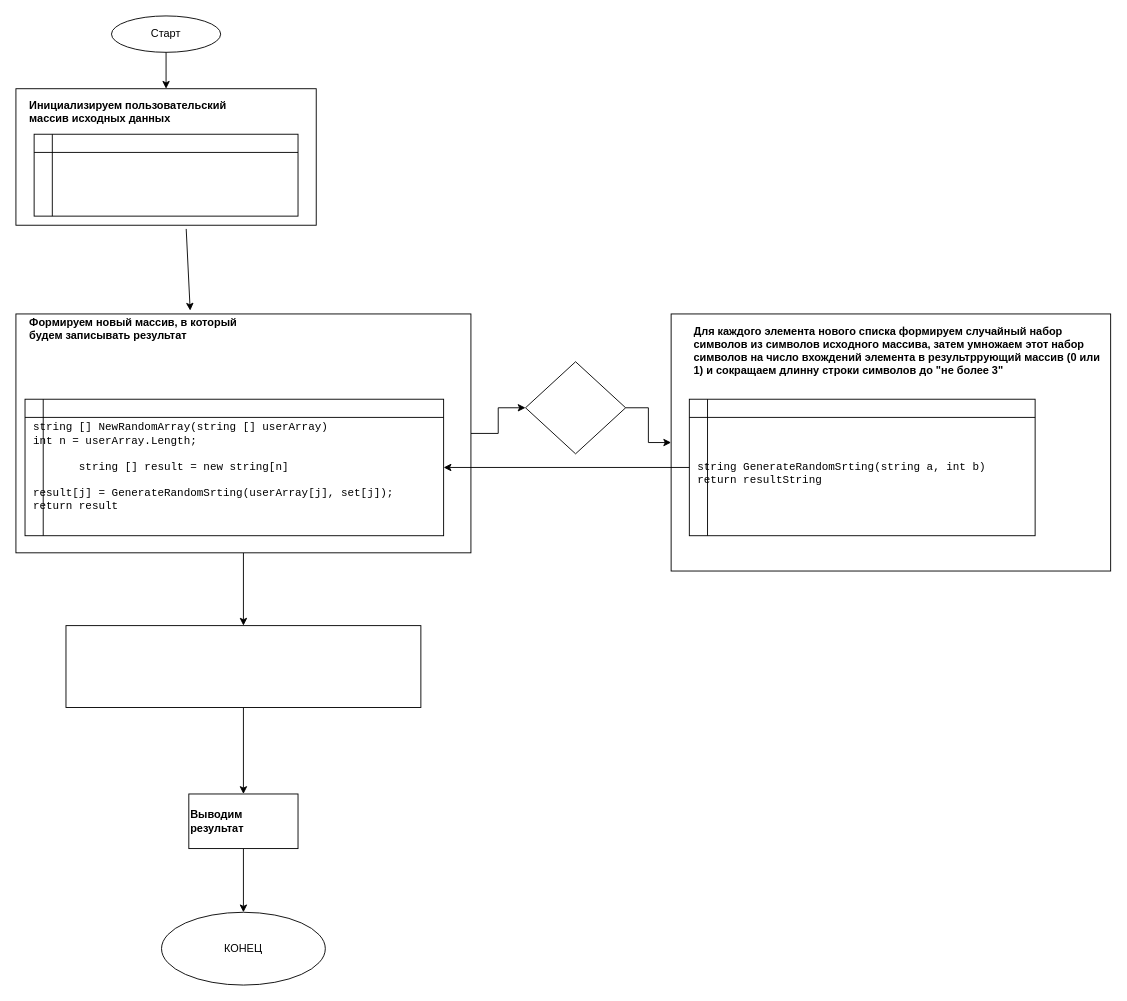
The diagram is 1127 pixels wide and 1001 high, and some of its shapes have lost their labels. The shapes that lost their labels are listed below. From the top down, each one's centre as x and y in pixels, then its label:
At pixel 165 174: "string [] ArrayDeclaration() string [] newArray = .... return newArray;".
At pixel 575 407: "for i =0;i<n; i++".
At pixel 243 666: "Выводим подсказку чтобы было понятно из чего получен результат".
